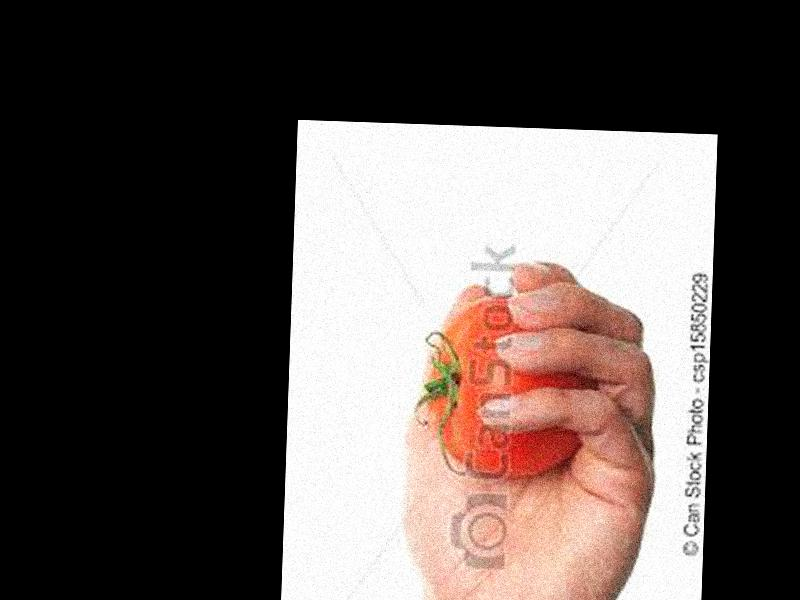Tomato: (426, 294, 594, 475)
